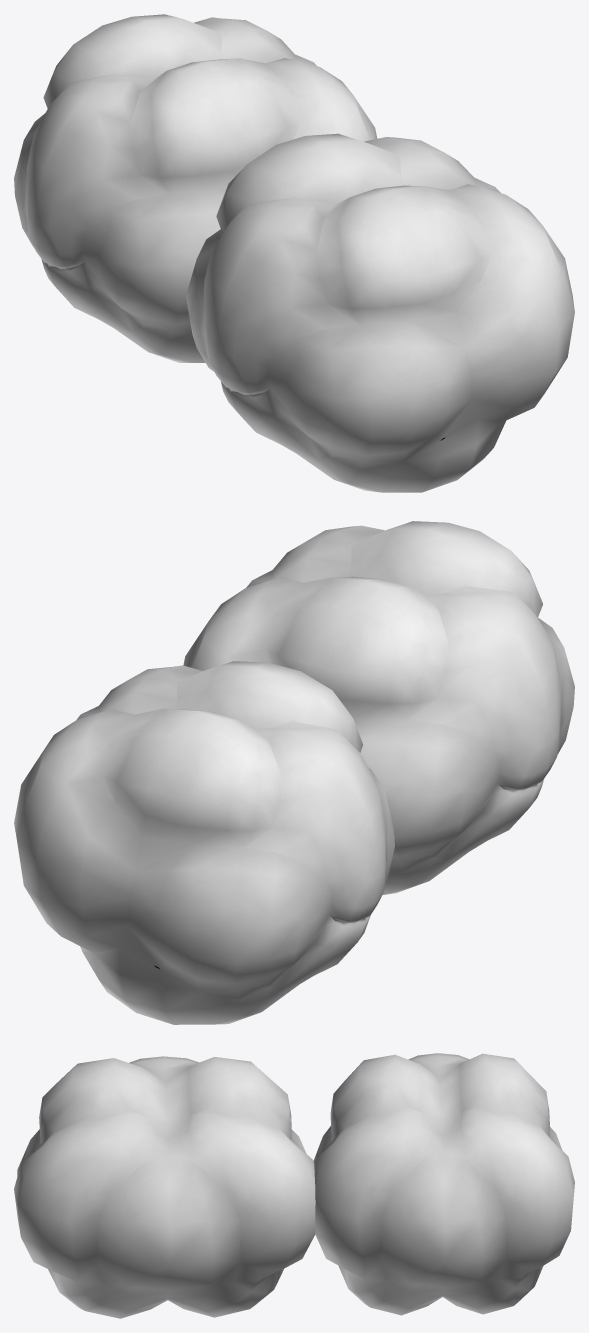
File: Cloud.fbx
The picture shows the model from 3 angles, top to bottom: view 1: azimuth 30°, elevation 25°; view 2: azimuth 150°, elevation 25°; view 3: azimuth 270°, elevation 25°; orthographic projection. The views are drawn at different scales.
Visible parts, largest first — view 1: mesh0001, mesh0001.001; view 2: mesh0001.001, mesh0001; view 3: mesh0001, mesh0001.001.
Boxes of the visible parts, left/top/right/bottom form: mesh0001: left=186, top=133, right=574, bottom=492; mesh0001.001: left=14, top=14, right=377, bottom=362; mesh0001.001: left=14, top=661, right=394, bottom=1024; mesh0001: left=183, top=521, right=574, bottom=894; mesh0001: left=14, top=1056, right=315, bottom=1318; mesh0001.001: left=313, top=1053, right=574, bottom=1315.
Bounding box in the file's own units: 133 × 118 × 253.
Materials: 2 (2 with a texture image).
